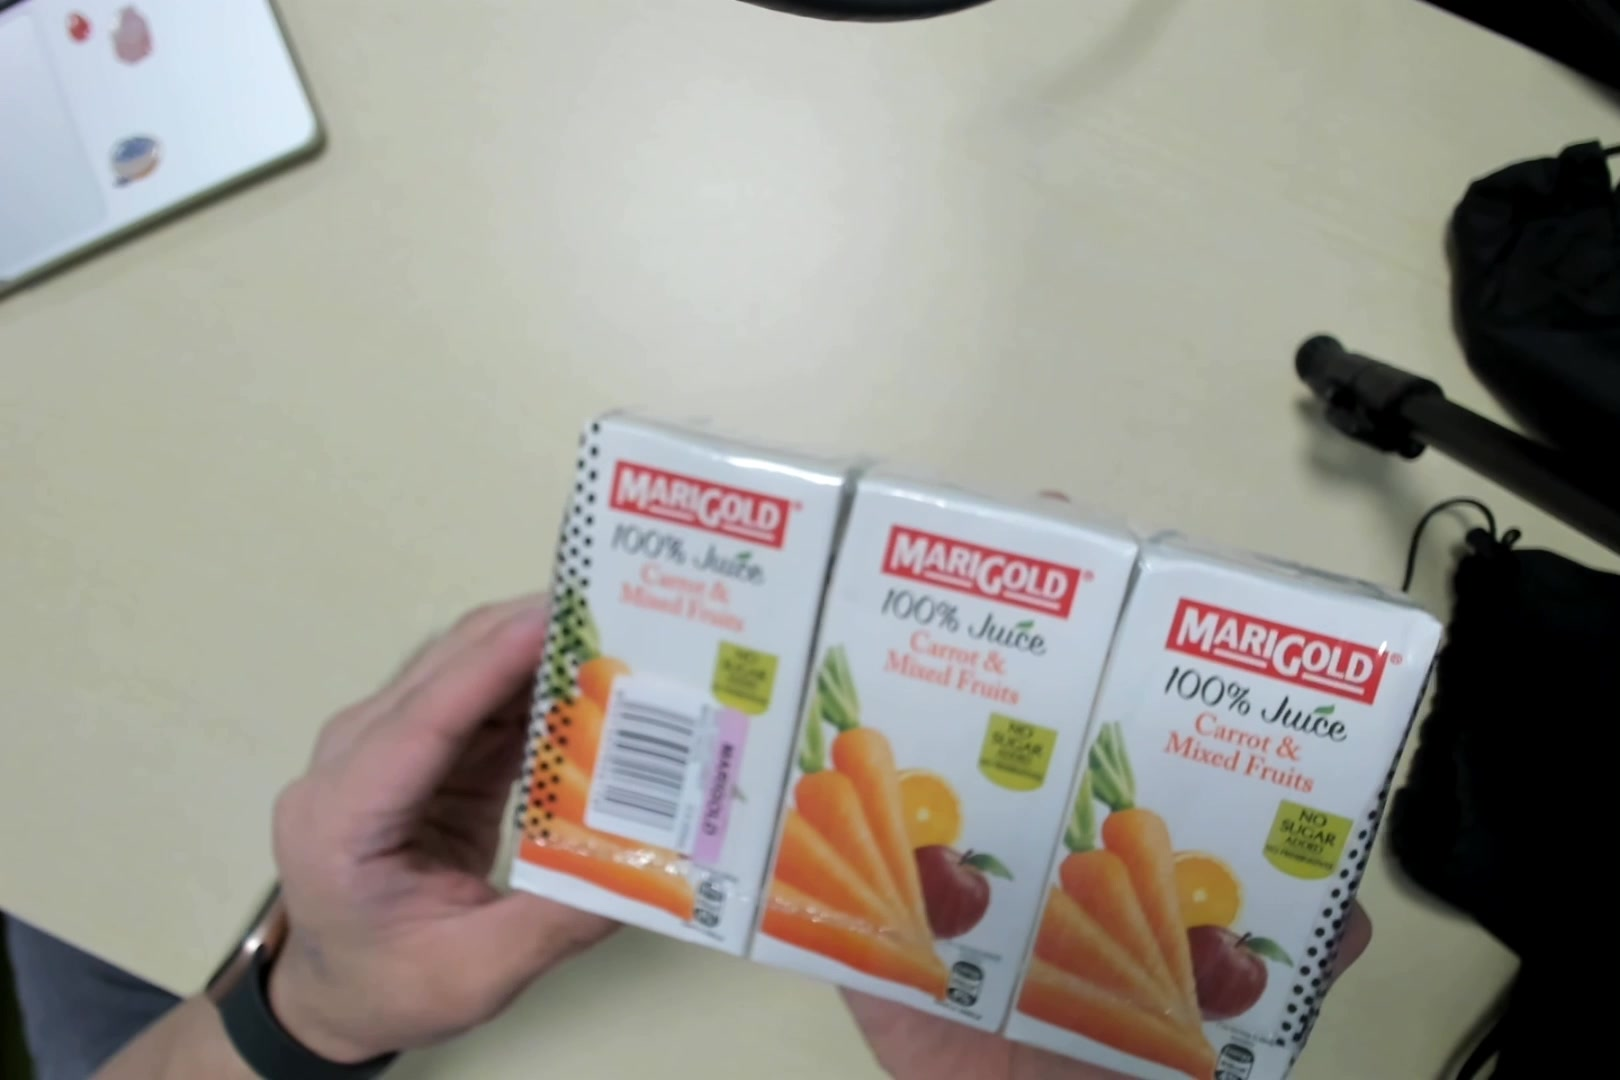FruitJuiceDrink_500-599g_Halal_NonHealthy: (501, 405, 1451, 1080)
